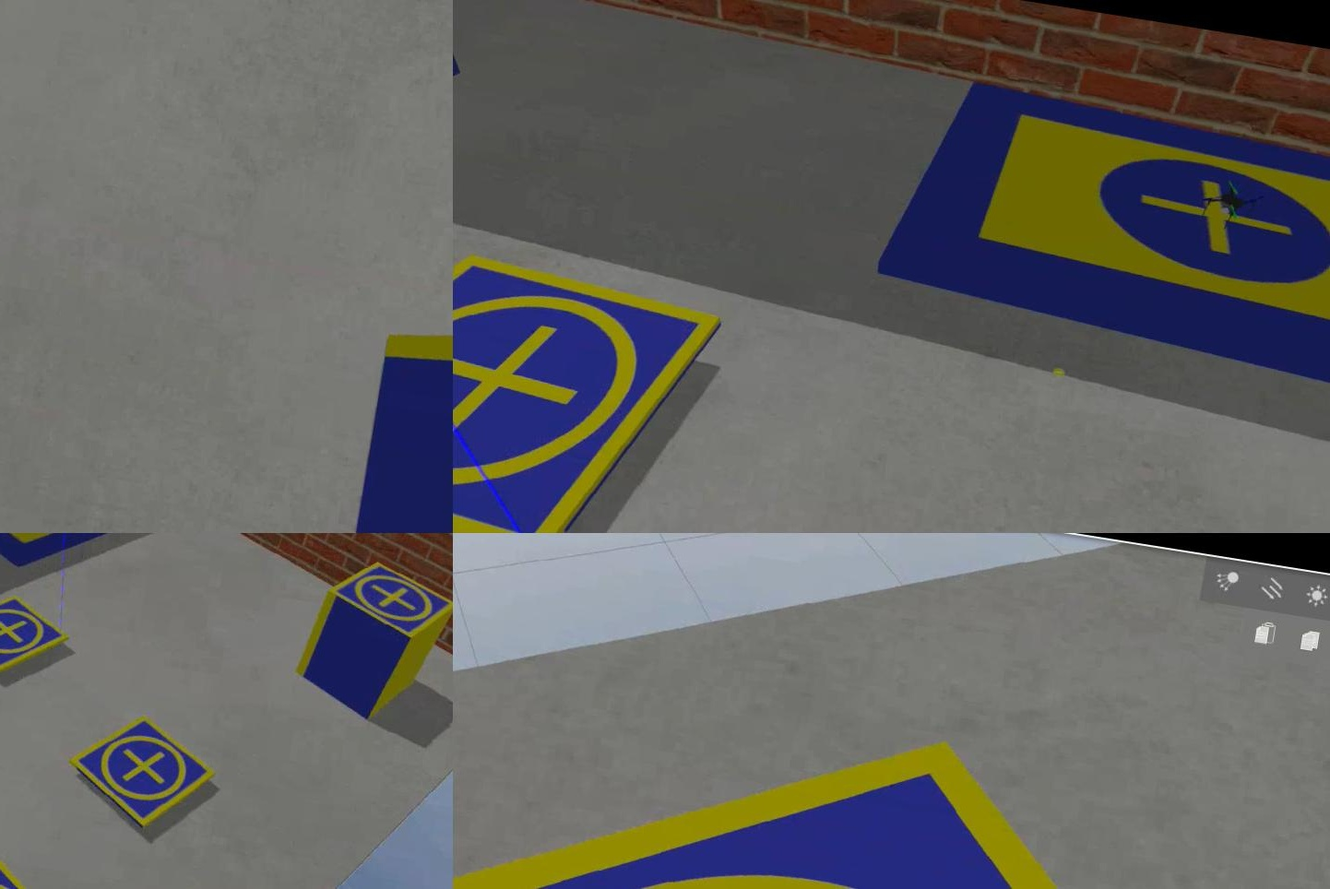large_base: (869, 75, 1328, 411), (0, 534, 180, 593)
small_base: (452, 634, 1328, 889), (452, 232, 722, 534), (56, 705, 218, 838), (317, 553, 452, 650), (0, 587, 75, 686)
